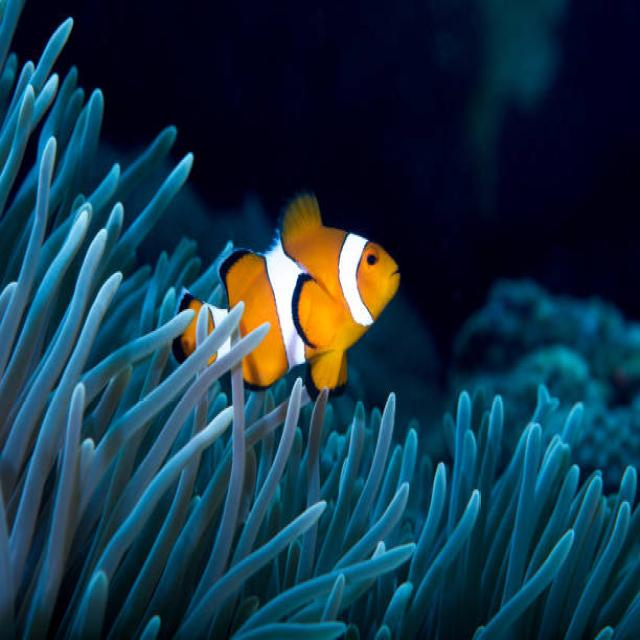ClownFish: (175, 198, 402, 390)
